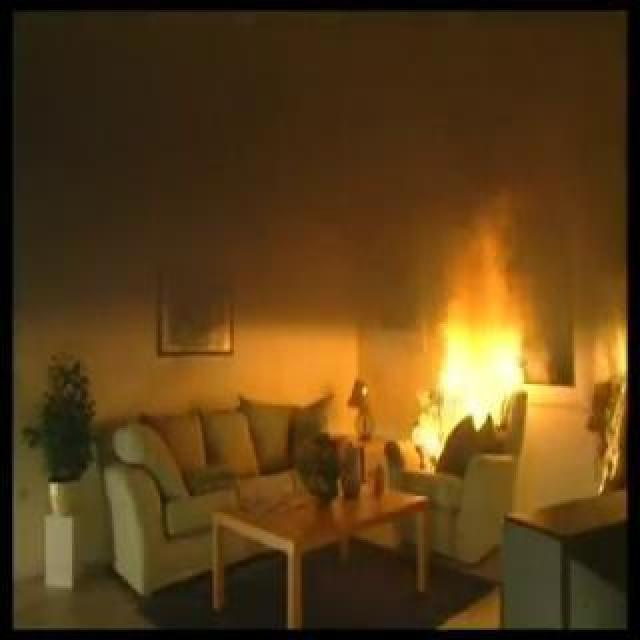Fire: (417, 315, 527, 458)
